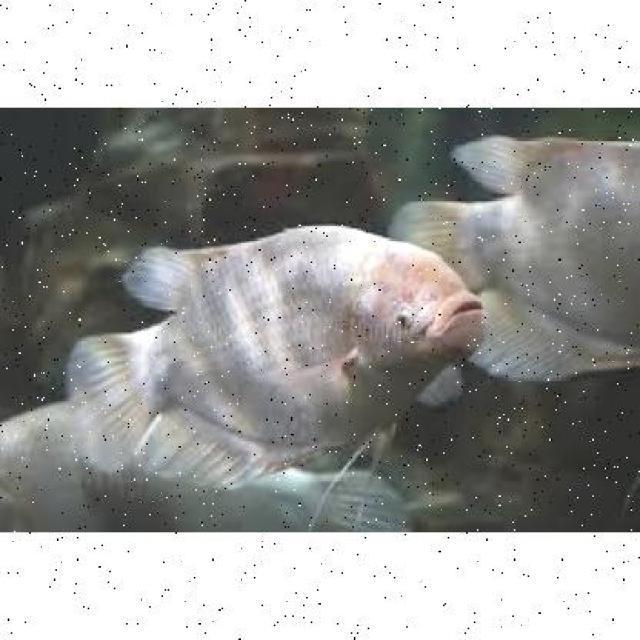gurame: (74, 226, 480, 472), (398, 131, 639, 377)
